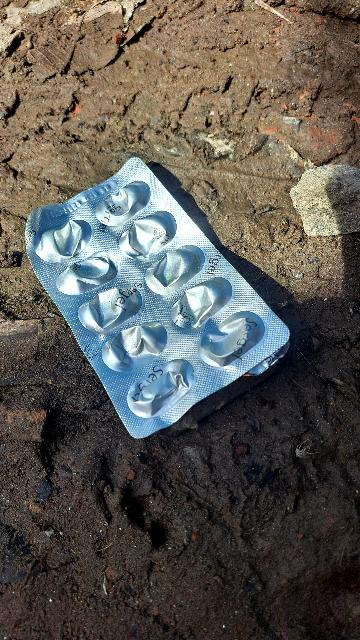medicine: (0, 119, 301, 441)
